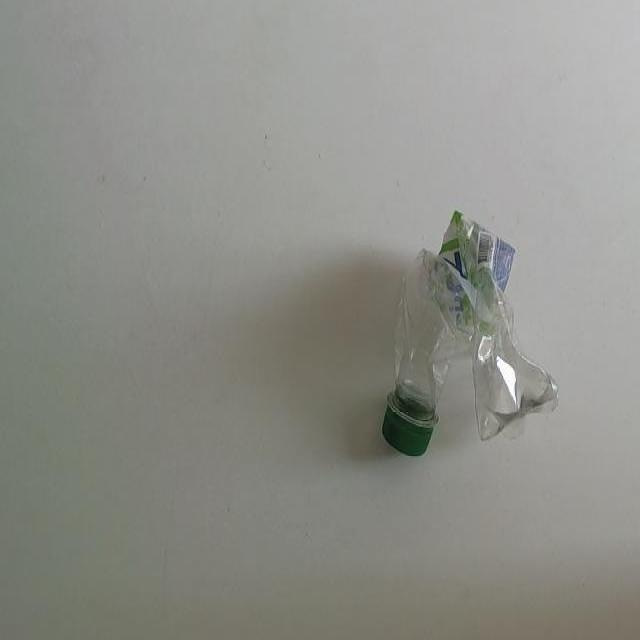defect: (379, 206, 562, 461)
